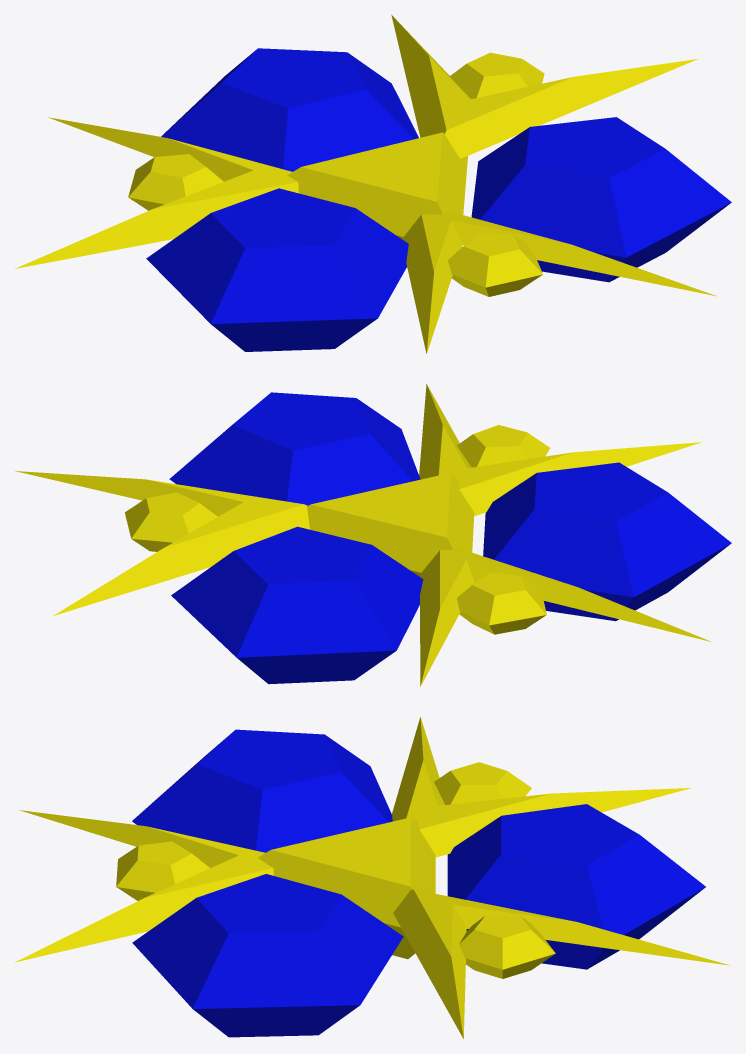
File: Cristal.glb
The picture shows the model from 3 angles, top to bottom: view 1: azimuth 30°, elevation 25°; view 2: azimuth 150°, elevation 25°; view 3: azimuth 270°, elevation 25°; orthographic projection. The views are drawn at different scales.
Visible parts, largest first — view 1: Cylinder; view 2: Cylinder; view 3: Cylinder.
Boxes of the visible parts, x1,y1,x2,y2 form: Cylinder: (15, 15, 731, 353); Cylinder: (15, 384, 731, 686); Cylinder: (14, 717, 730, 1038).
Size of the model in its own units: 5.71 by 0.806 by 5.02.
